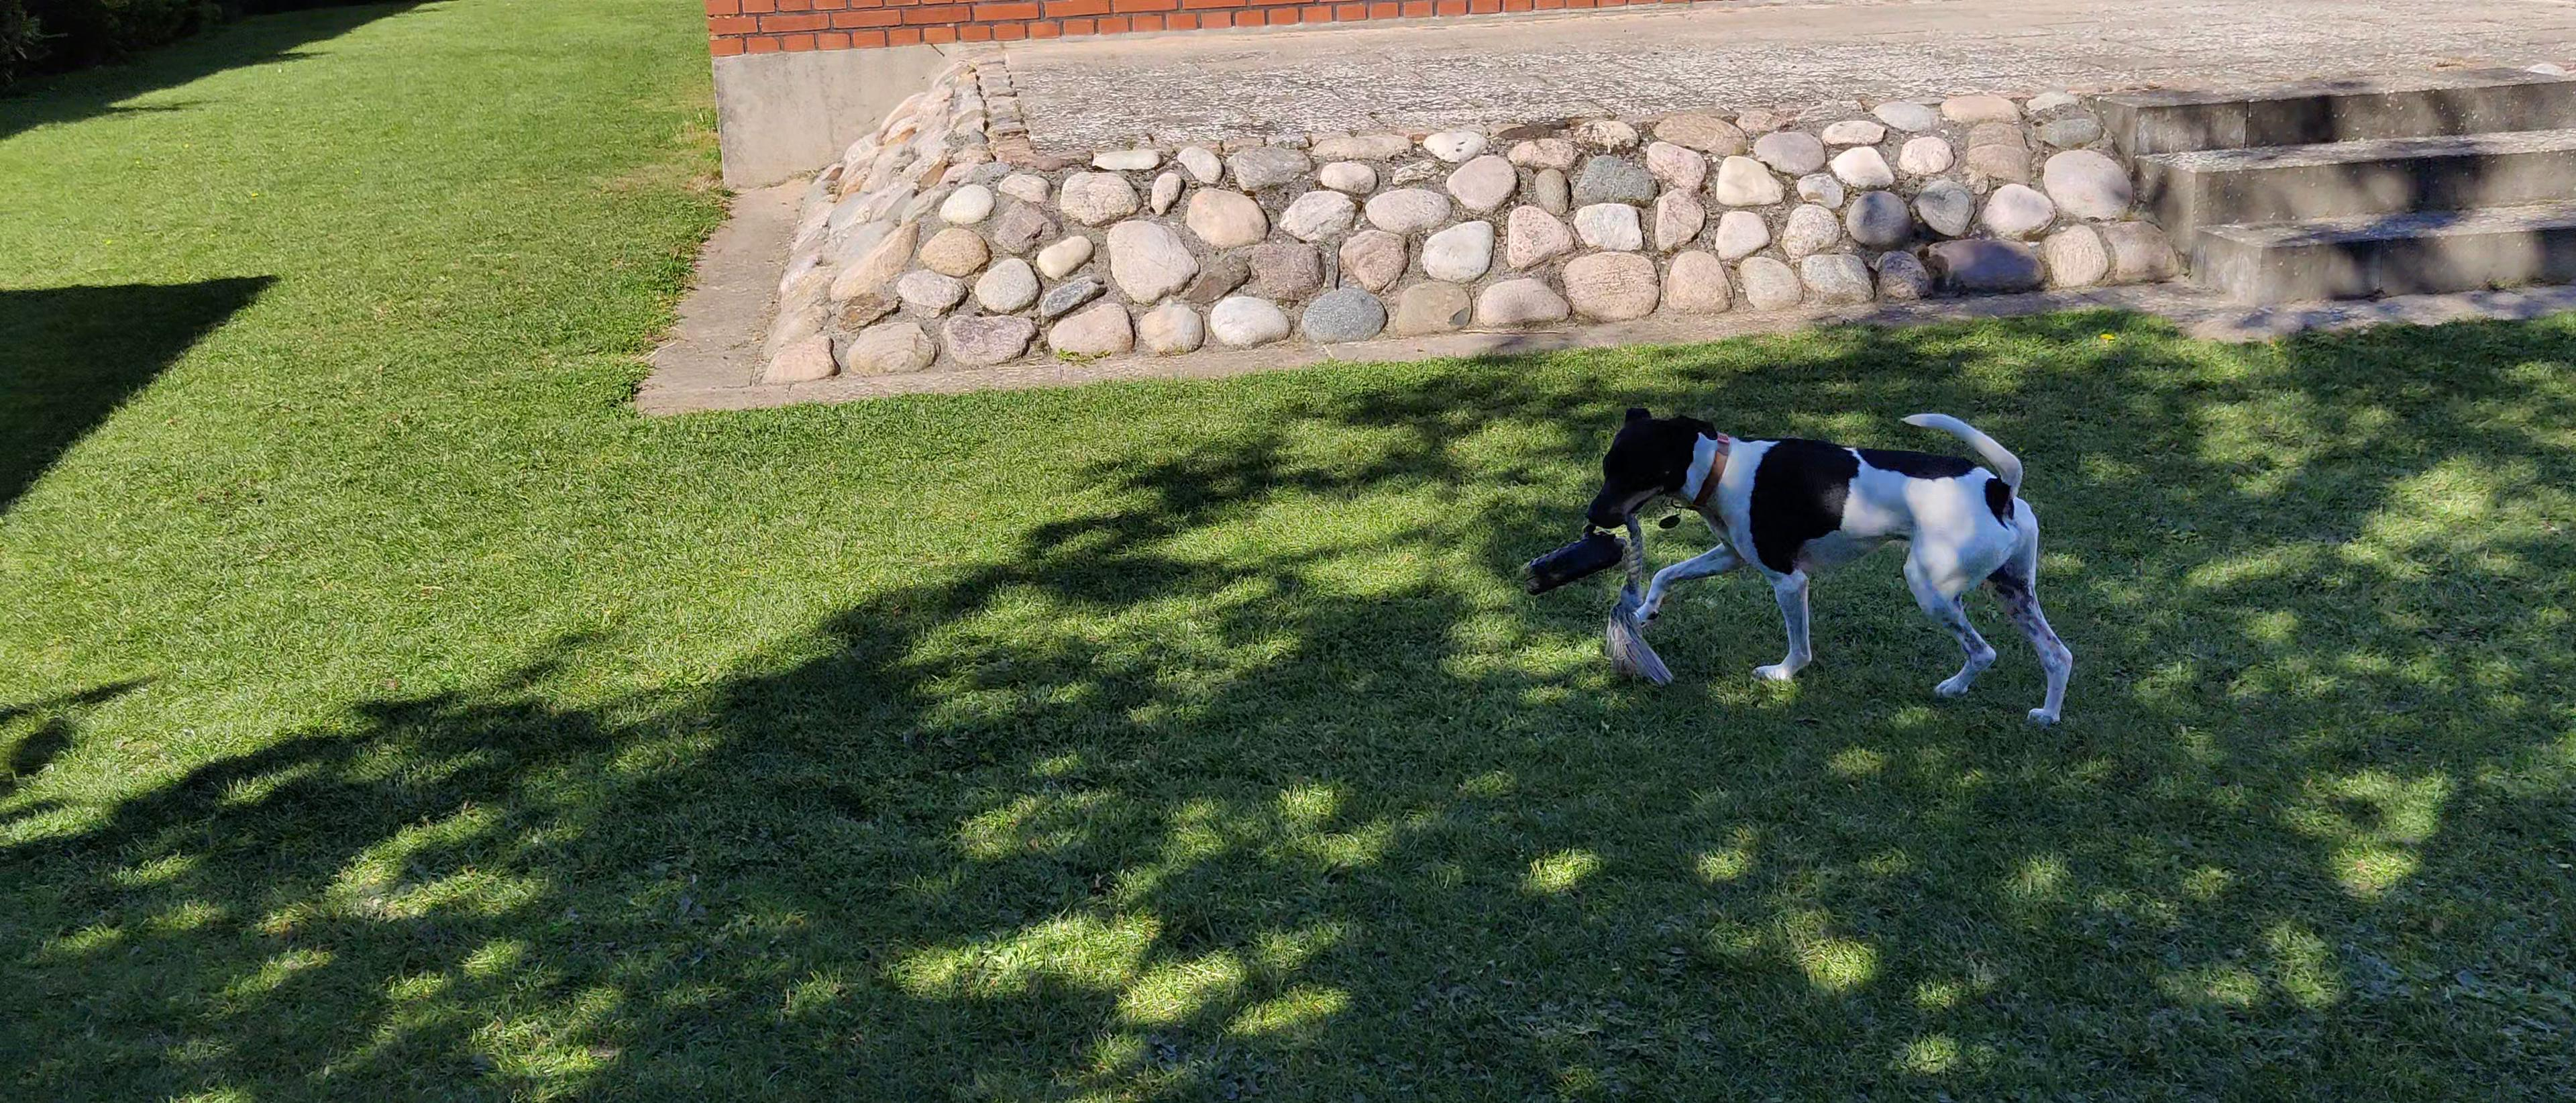Dog: (1580, 398, 2075, 733)
